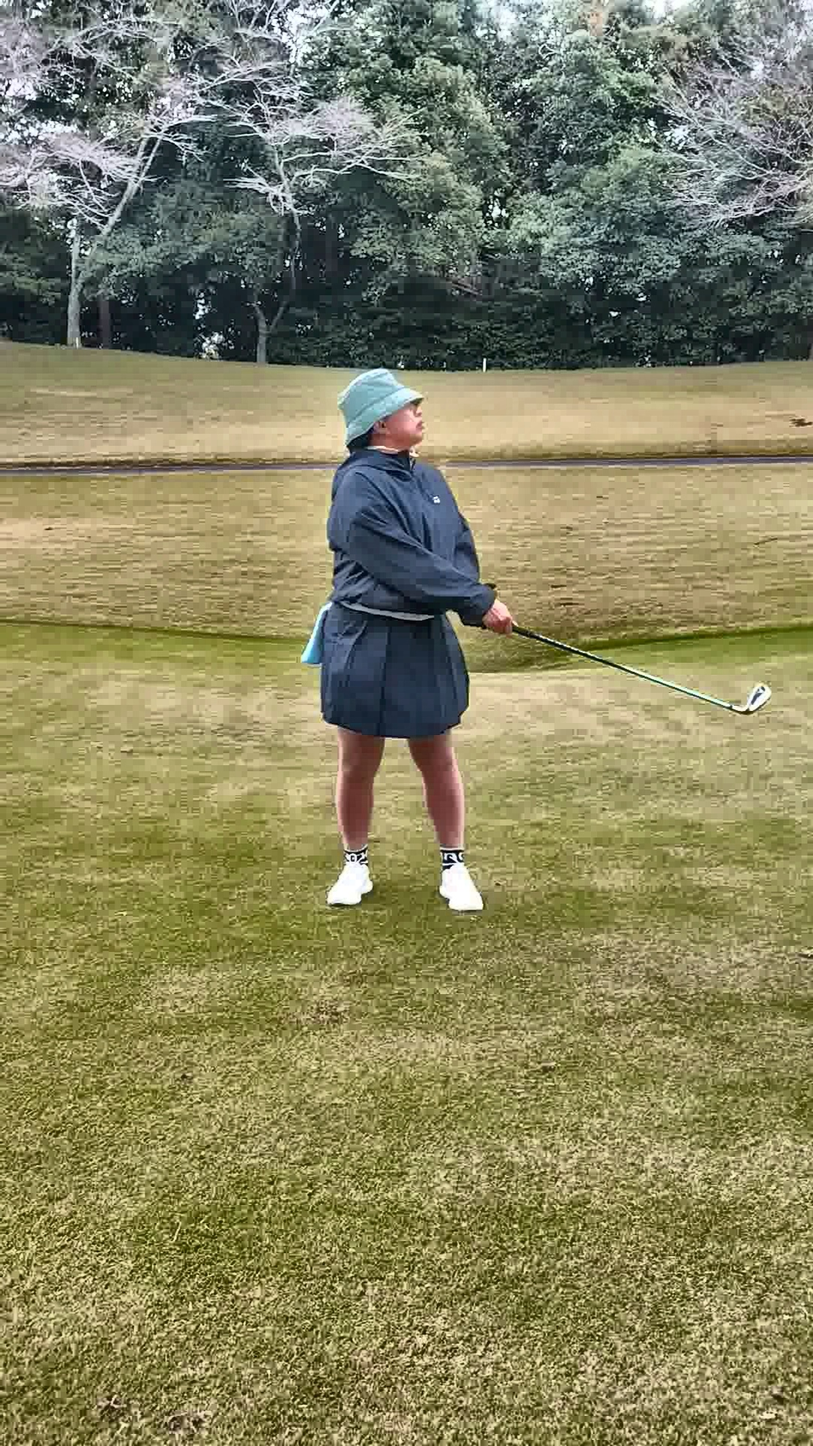clubhead: (695, 630, 783, 790)
